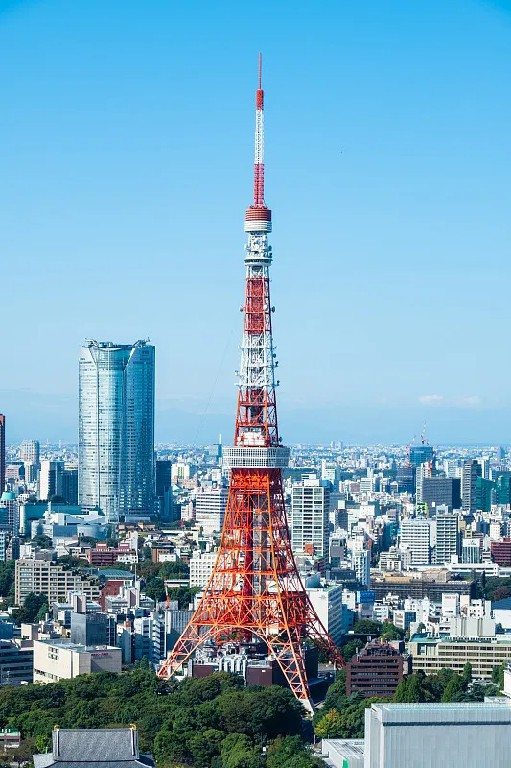Tokyo: (161, 47, 346, 720)
